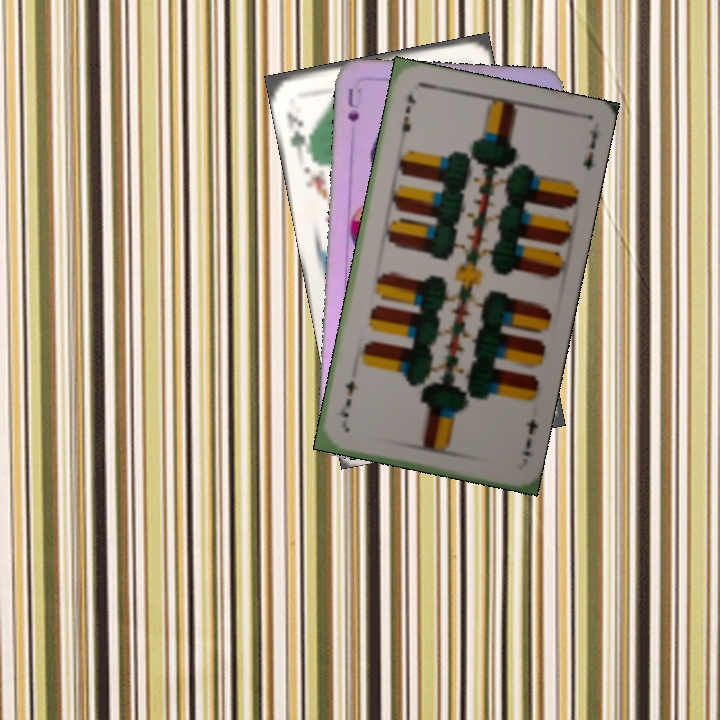E7: (395, 89, 419, 144), (519, 415, 541, 459)
GK: (282, 108, 313, 155)
SU: (343, 84, 366, 125)
